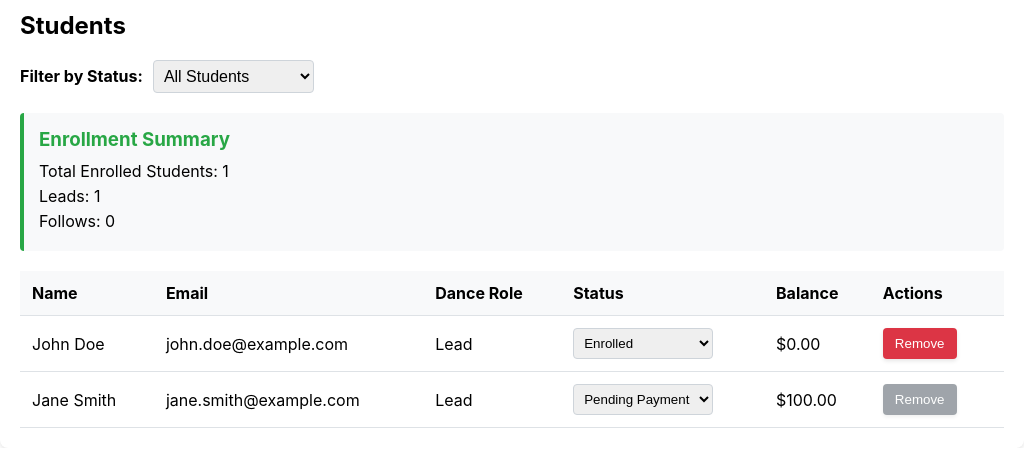
Scenario: StudentList › filters students by status
Change filter to "Enrolled"
Select "Enrolled" in the dropdown with test id "status-filter" at (233, 76), box [153, 60, 314, 93]
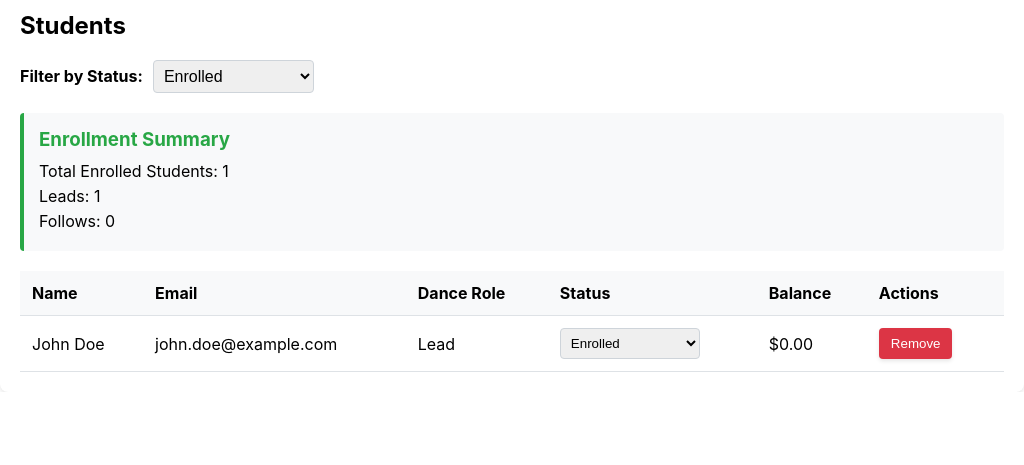
Expected: the row with test id "student-row-student1" is shown, [20, 315, 1004, 372]
Result: the row with test id "student-row-student2" is gone
